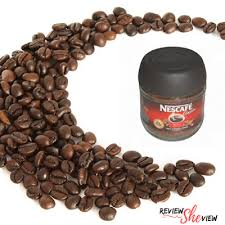nescafe-classic/gold-small: (139, 46, 207, 140)
